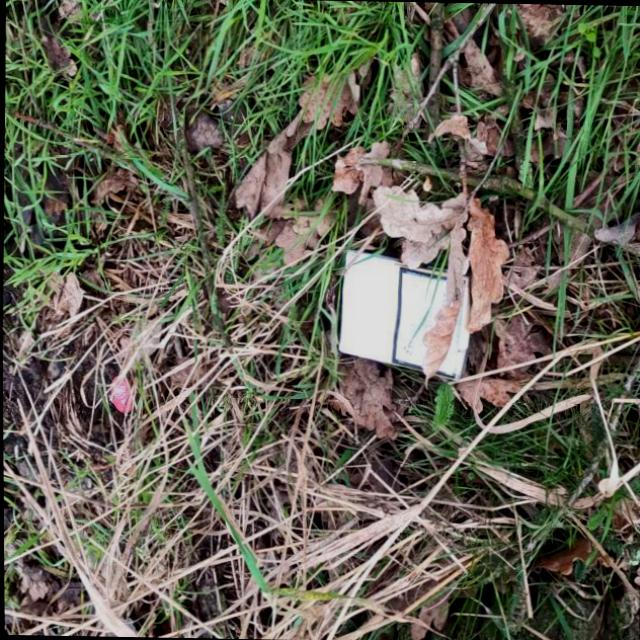Paper: (335, 250, 472, 382)
